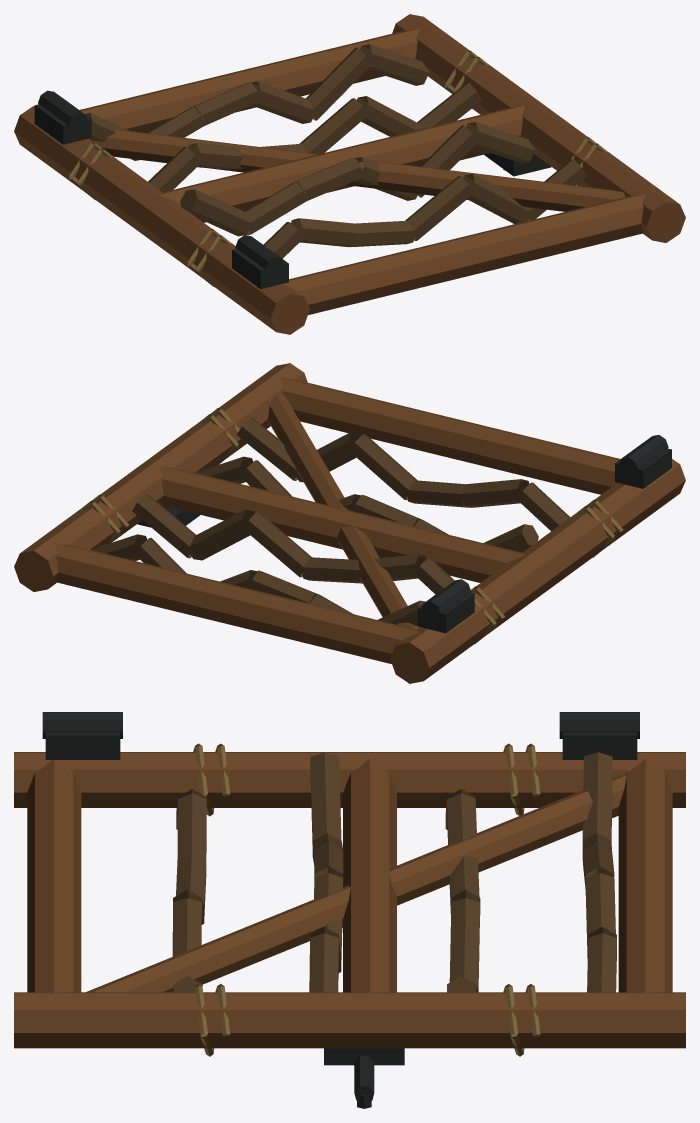
The model's file is SM_Wattle_GateLeaf1m_1348_LOD1.obj.
3 renders of one model, top to bottom at view 1: azimuth 30°, elevation 25°; view 2: azimuth 150°, elevation 25°; view 3: azimuth 270°, elevation 25°, orthographic. The views are drawn at different scales.
Parts seen in each view (by area): view 1: handwoven_gate_laths, gate_horizontal_rails, gate_side_post, cross_brace, gate_side_post_cut, hinge_iron_eye, hand_lashed_binding, pivot_loop, wrought_iron_latch_base, pivot_loop_cut; view 2: gate_horizontal_rails, handwoven_gate_laths, gate_side_post, cross_brace, gate_side_post_cut, hinge_iron_eye, hand_lashed_binding, pivot_loop, pivot_loop_cut; view 3: gate_side_post, gate_horizontal_rails, handwoven_gate_laths, cross_brace, hinge_iron_eye, hand_lashed_binding, pivot_loop, wrought_iron_latch_base, handwoven_gate_laths_cut, manual_latch_bar.
Part boxes in pixels (x1,y1,x2,y2): handwoven_gate_laths: [89, 44, 586, 258]; gate_horizontal_rails: [79, 28, 645, 314]; gate_side_post: [14, 14, 679, 331]; cross_brace: [92, 130, 625, 211]; gate_side_post_cut: [270, 202, 685, 334]; hinge_iron_eye: [34, 100, 288, 289]; hand_lashed_binding: [69, 50, 607, 286]; pivot_loop: [38, 90, 281, 275]; wrought_iron_latch_base: [484, 153, 551, 176]; pivot_loop_cut: [68, 113, 284, 277]; gate_horizontal_rails: [54, 377, 620, 663]; handwoven_gate_laths: [90, 417, 570, 625]; gate_side_post: [20, 363, 685, 680]; cross_brace: [268, 394, 419, 629]; gate_side_post_cut: [14, 551, 429, 683]; hinge_iron_eye: [417, 448, 671, 633]; hand_lashed_binding: [78, 408, 623, 644]; pivot_loop: [424, 435, 668, 619]; pivot_loop_cut: [421, 457, 637, 621]; gate_side_post: [14, 752, 685, 1048]; gate_horizontal_rails: [27, 758, 672, 992]; handwoven_gate_laths: [172, 752, 616, 992]; cross_brace: [86, 774, 626, 992]; hinge_iron_eye: [45, 732, 637, 759]; hand_lashed_binding: [193, 743, 540, 1056]; pivot_loop: [42, 712, 639, 738]; wrought_iron_latch_base: [324, 1048, 404, 1065]; handwoven_gate_laths_cut: [173, 813, 475, 992]; manual_latch_bar: [354, 1056, 374, 1091].
Bounding box in the file's own units: 1.2 × 0.23 × 1.17.
